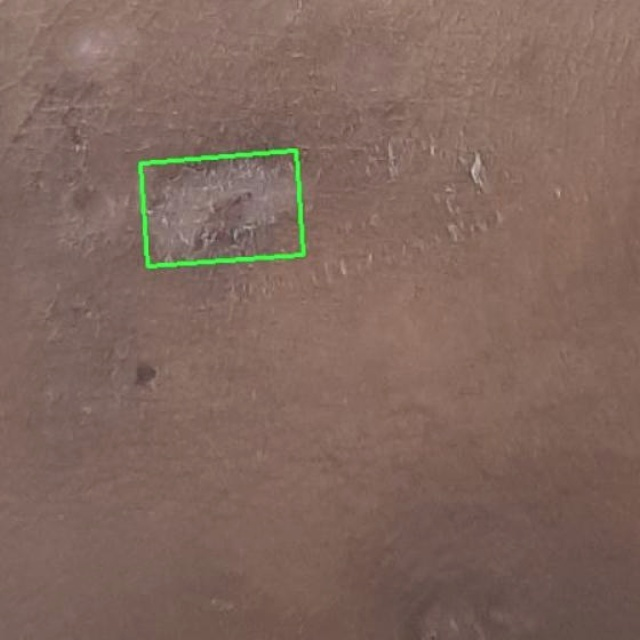Eczema: (141, 151, 304, 266)
